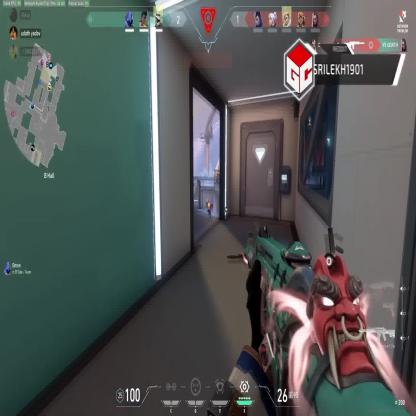enemy: (206, 199, 212, 217)
enemy_head: (207, 199, 210, 204)
